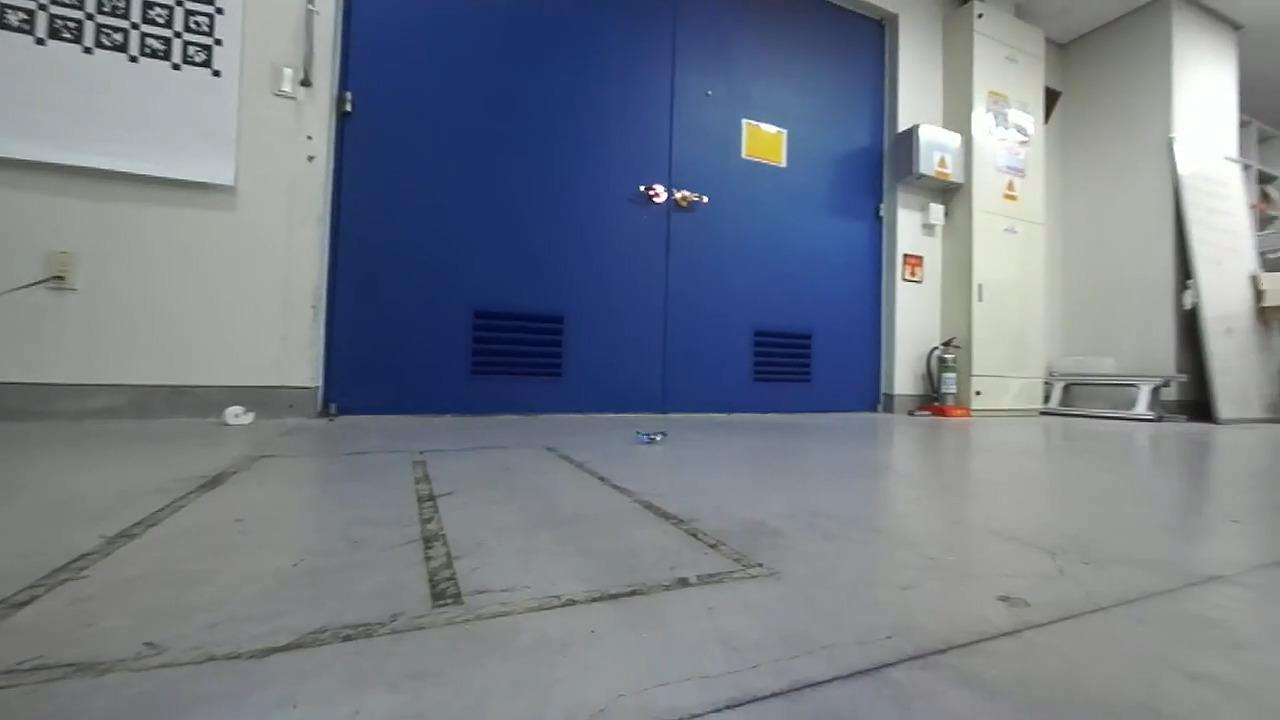crazyflie: (626, 423, 676, 450)
